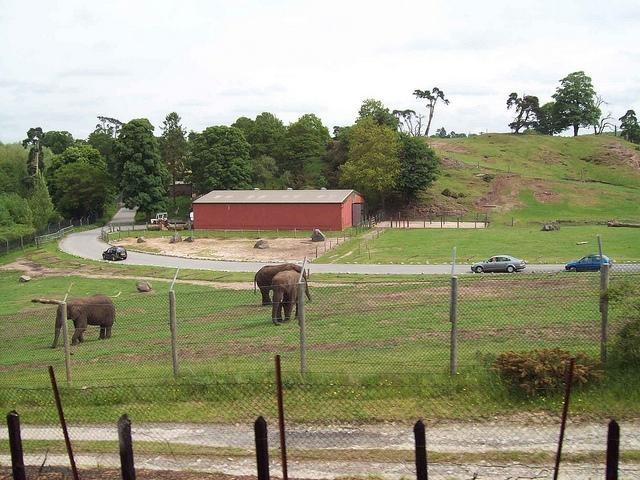car: (471, 255, 525, 273), (564, 254, 612, 270), (102, 246, 128, 261)
